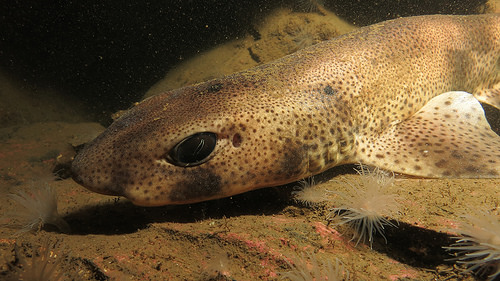shark: (42, 15, 499, 212)
